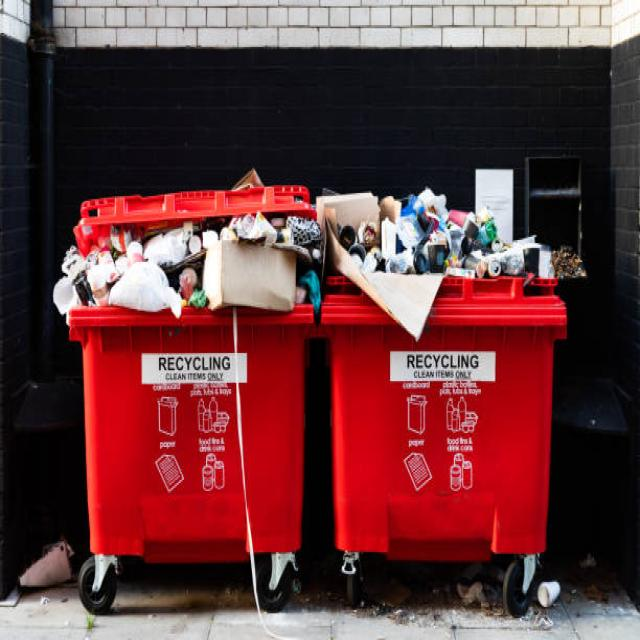cardboard: (200, 243, 300, 308), (317, 196, 386, 240)
glass: (522, 250, 543, 280), (428, 246, 449, 270)
metal: (489, 262, 503, 279)
plastic: (59, 224, 208, 311), (402, 198, 549, 280)
